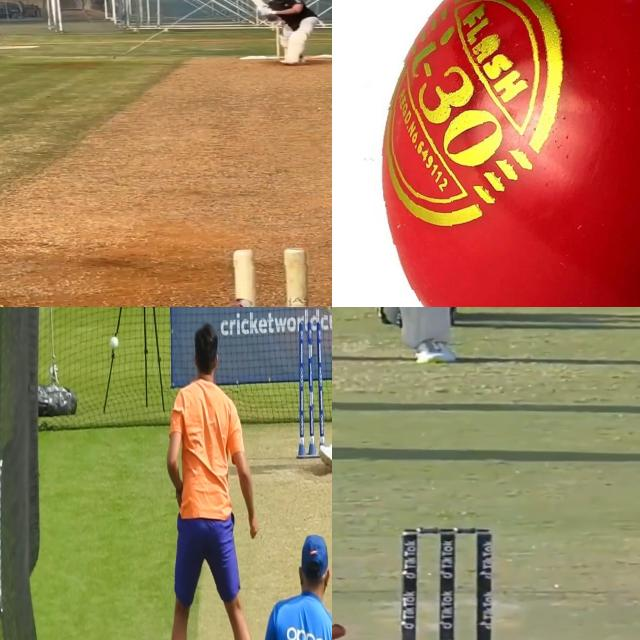Cricket ball: (360, 0, 640, 307), (332, 622, 349, 640), (110, 333, 122, 353)
Stumps: (397, 526, 495, 640), (232, 244, 332, 307), (298, 322, 325, 460)
